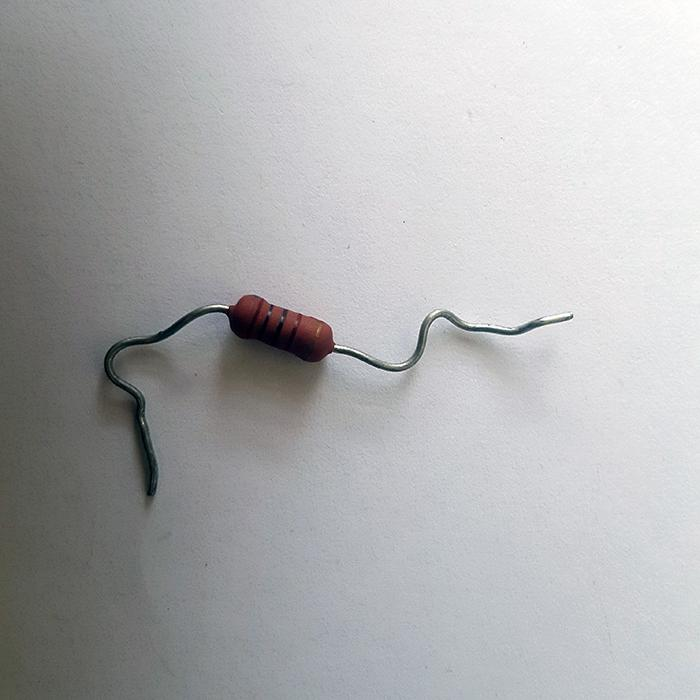resistor: (225, 293, 337, 362)
